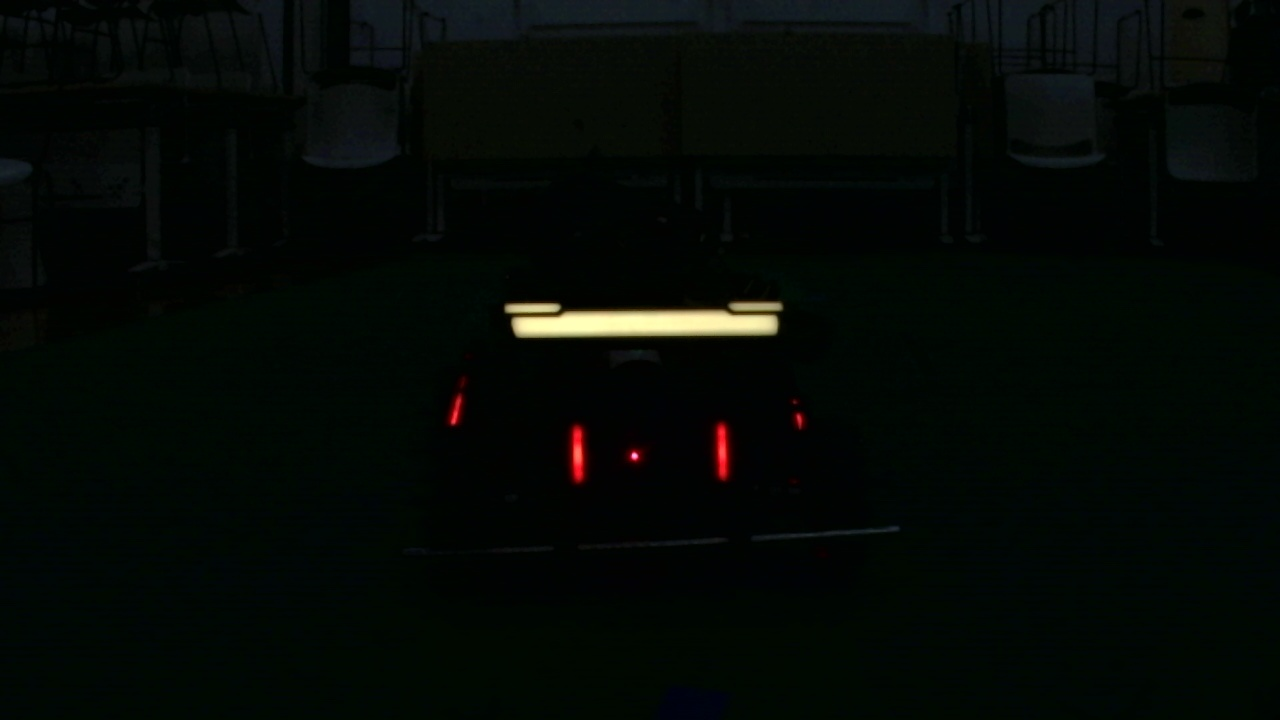lamp: (710, 422, 733, 481), (569, 422, 588, 483)
pair1: (571, 423, 735, 486)
